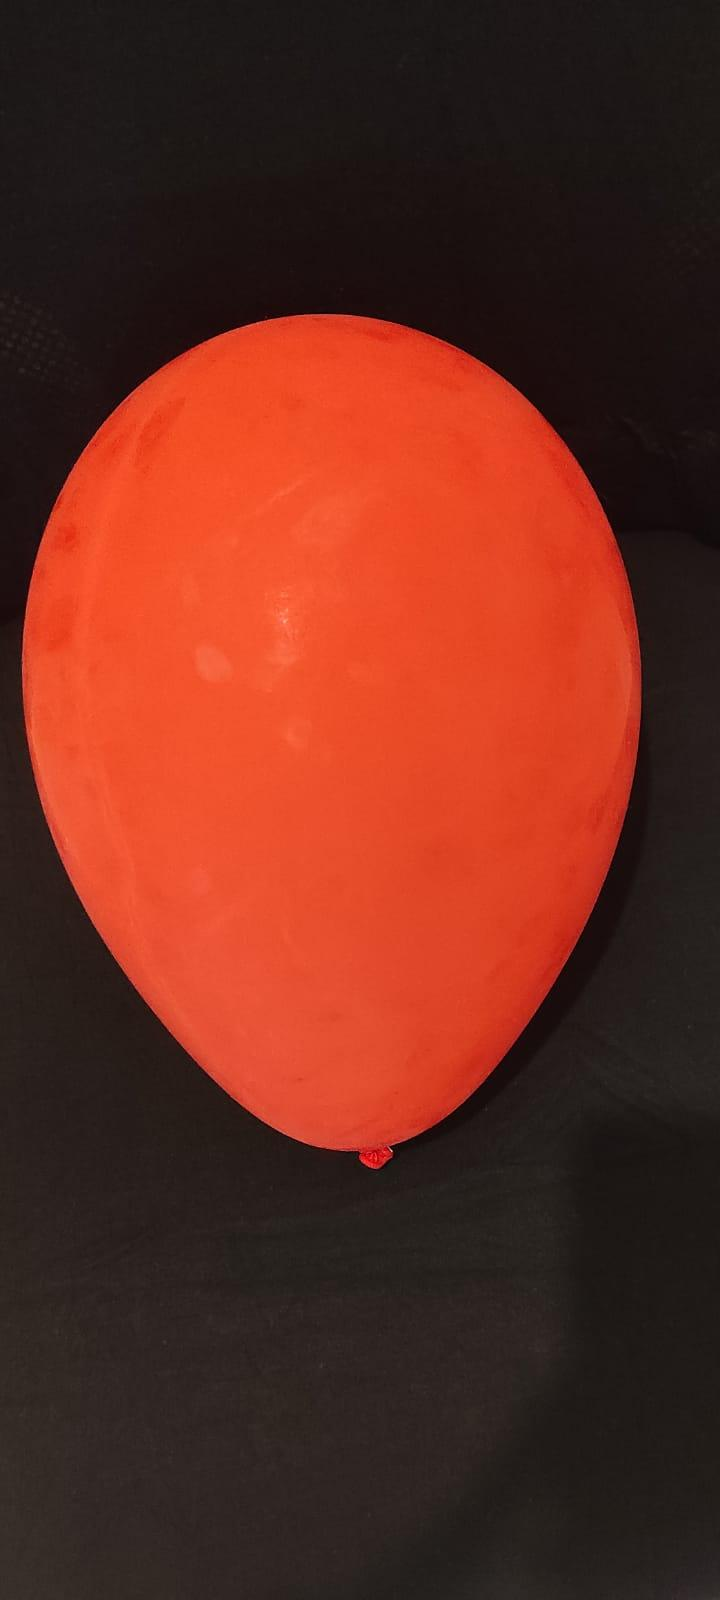red: (17, 301, 654, 1164)
